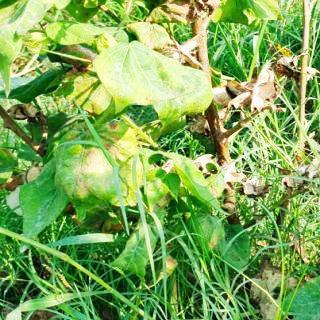blight: (38, 113, 154, 224)
